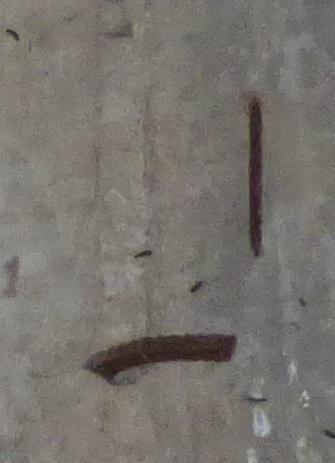Exposed reinforcement: (82, 332, 239, 383), (247, 101, 264, 257)
